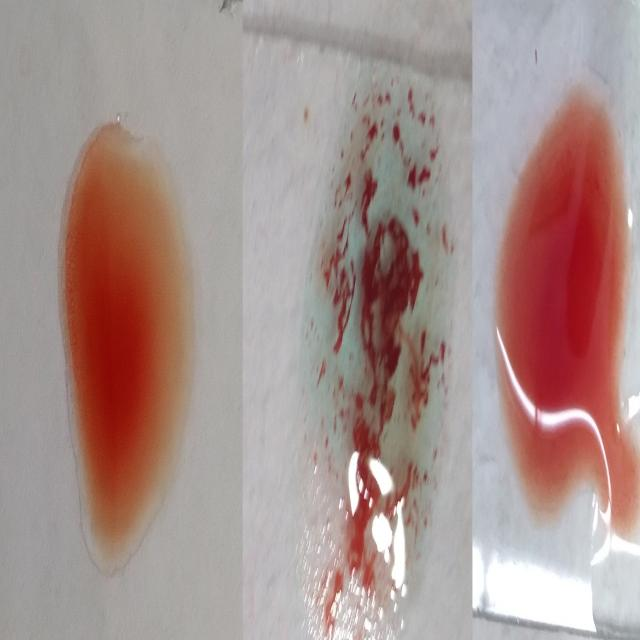A: (305, 59, 442, 604)
